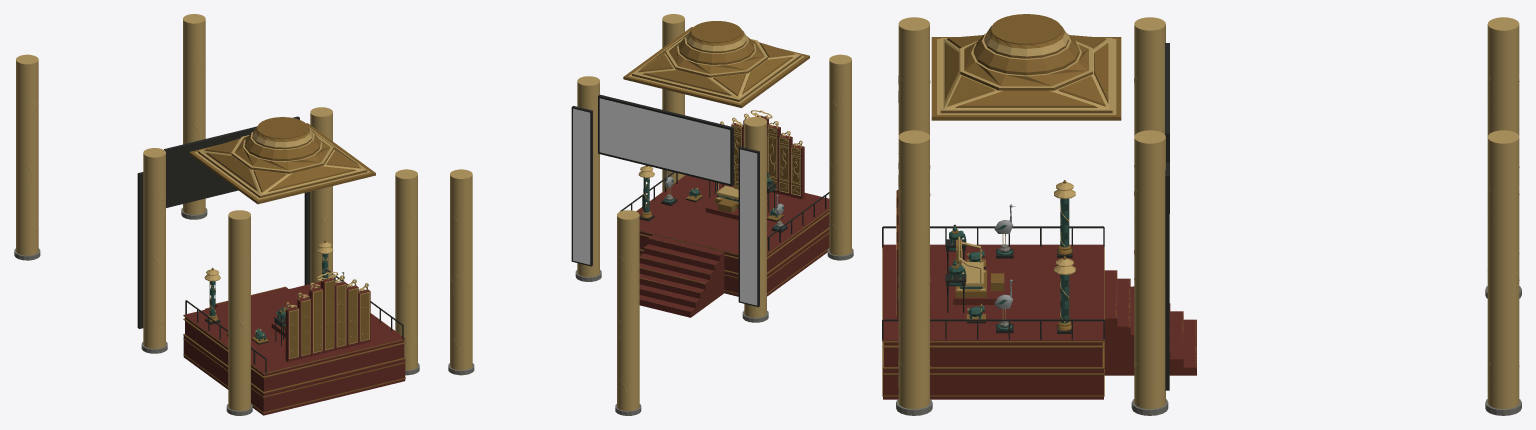
Rendered from taihe-enamel-cranes-052bec6dbe4b.glb.
The picture shows the model from 3 angles, left to right: view 1: azimuth 30°, elevation 25°; view 2: azimuth 150°, elevation 25°; view 3: azimuth 270°, elevation 25°; orthographic projection. The views are drawn at different scales.
Parts seen in each view (by area): view 1: merged_taihe_gold, merged_taihe_lacquer, merged_taihe_dark_gold, merged_taihe_dark_wood, merged_taihe_stone, throne_blue_waist; view 2: merged_taihe_gold, merged_taihe_lacquer, merged_taihe_glyph_atlas, merged_taihe_dark_gold, merged_taihe_dark_wood, merged_taihe_stone, throne_blue_waist; view 3: merged_taihe_gold, merged_taihe_lacquer, merged_taihe_dark_gold, merged_taihe_dark_wood, throne_blue_waist, merged_taihe_stone.
Part boxes in pixels (bbox=[...]): merged_taihe_gold: bbox=[16, 14, 417, 410]; merged_taihe_lacquer: bbox=[183, 272, 405, 415]; merged_taihe_dark_gold: bbox=[183, 117, 405, 413]; merged_taihe_dark_wood: bbox=[137, 116, 403, 373]; merged_taihe_stone: bbox=[14, 208, 419, 415]; throne_blue_waist: bbox=[209, 254, 328, 340]; merged_taihe_gold: bbox=[450, 14, 851, 410]; merged_taihe_lacquer: bbox=[636, 115, 829, 317]; merged_taihe_glyph_atlas: bbox=[573, 98, 757, 305]; merged_taihe_dark_gold: bbox=[623, 21, 829, 310]; merged_taihe_dark_wood: bbox=[571, 94, 829, 307]; merged_taihe_stone: bbox=[448, 194, 853, 415]; throne_blue_waist: bbox=[643, 173, 785, 229]; merged_taihe_gold: bbox=[896, 17, 1519, 409]; merged_taihe_lacquer: bbox=[883, 190, 1196, 399]; merged_taihe_dark_gold: bbox=[882, 14, 1196, 396]; merged_taihe_dark_wood: bbox=[882, 43, 1169, 390]; throne_blue_waist: bbox=[949, 198, 1069, 330]; merged_taihe_stone: bbox=[896, 244, 1521, 415].
Bounding box in the file's own units: 9.63 × 11.27 × 20.25.
